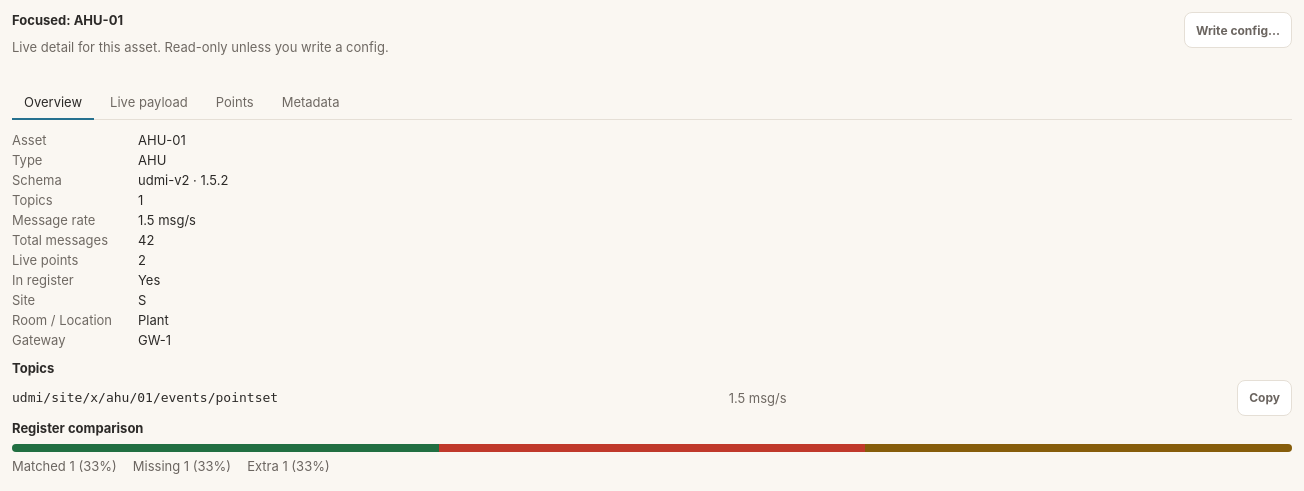
Scenario: MqttFocusedDetail › scrubs payload history and pauses the live stream (GAP-M1)
The image size is (1304, 491).
Click the tab "Live payload". click: (149, 102)
box: top-left (98, 86), bottom-right (200, 120)
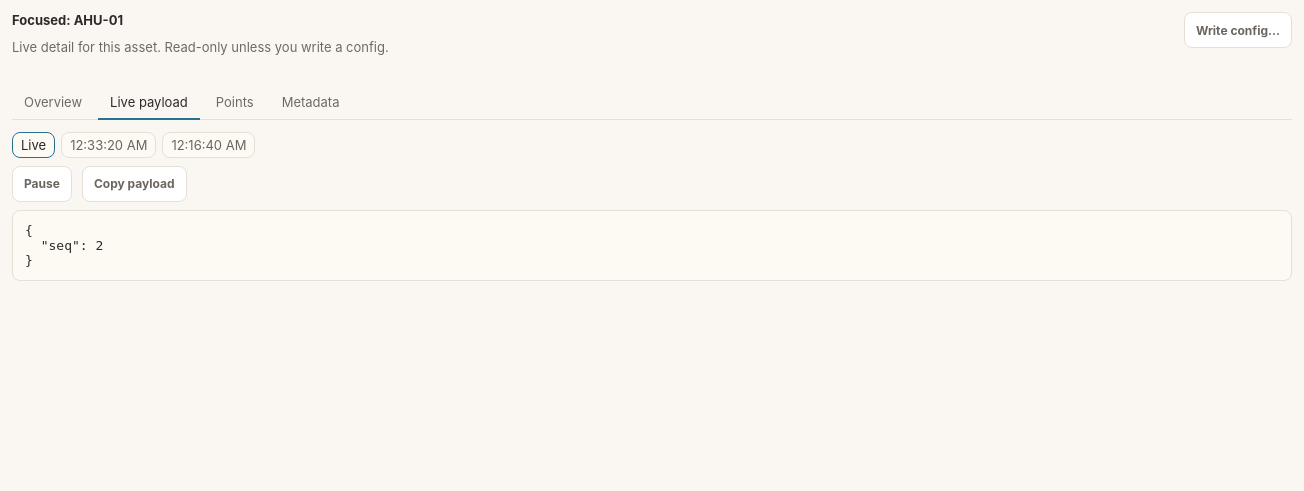
Check: the button "Pause" is enabled
Click the button "Pause". click: (42, 184)
box: top-left (12, 166), bottom-right (72, 202)
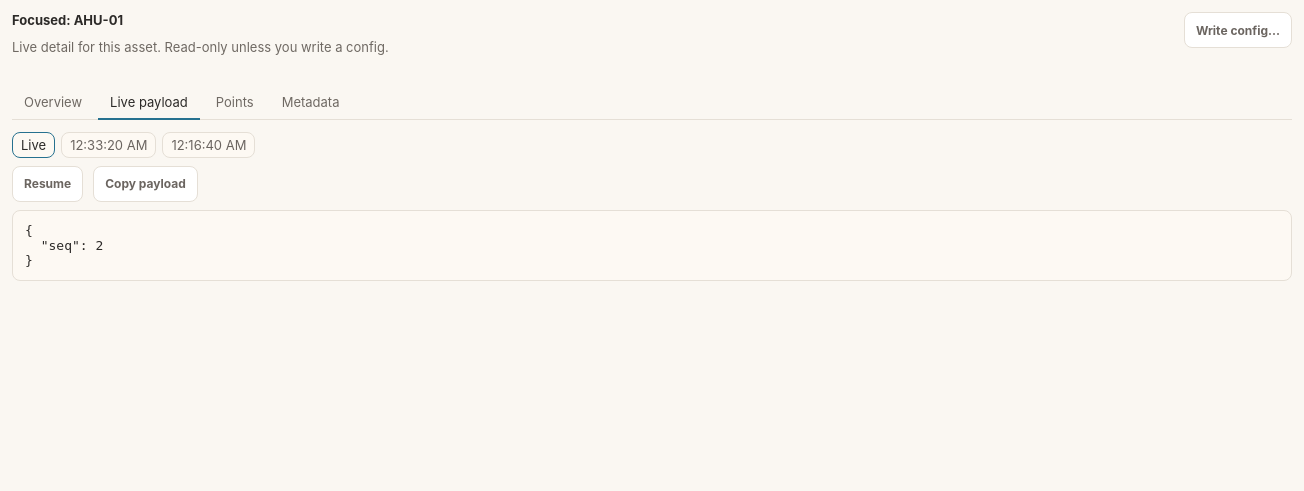
Check: the button "Resume" is shown, box top-left (12, 166), bottom-right (83, 202)
